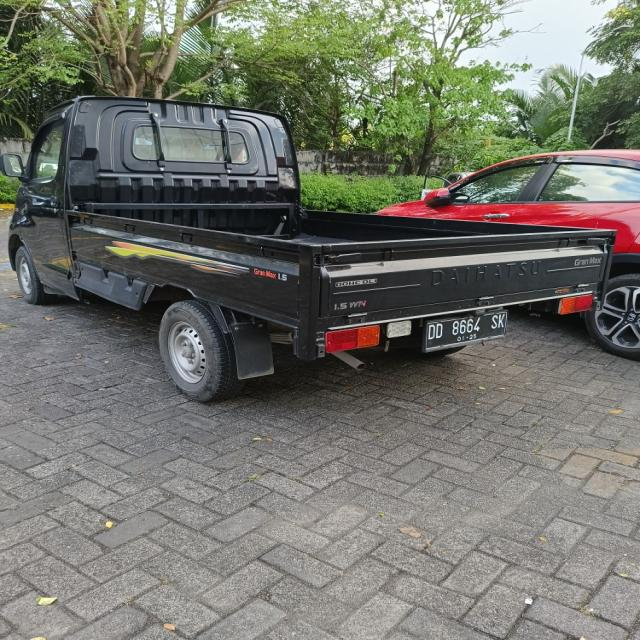plates: (414, 304, 505, 349)
